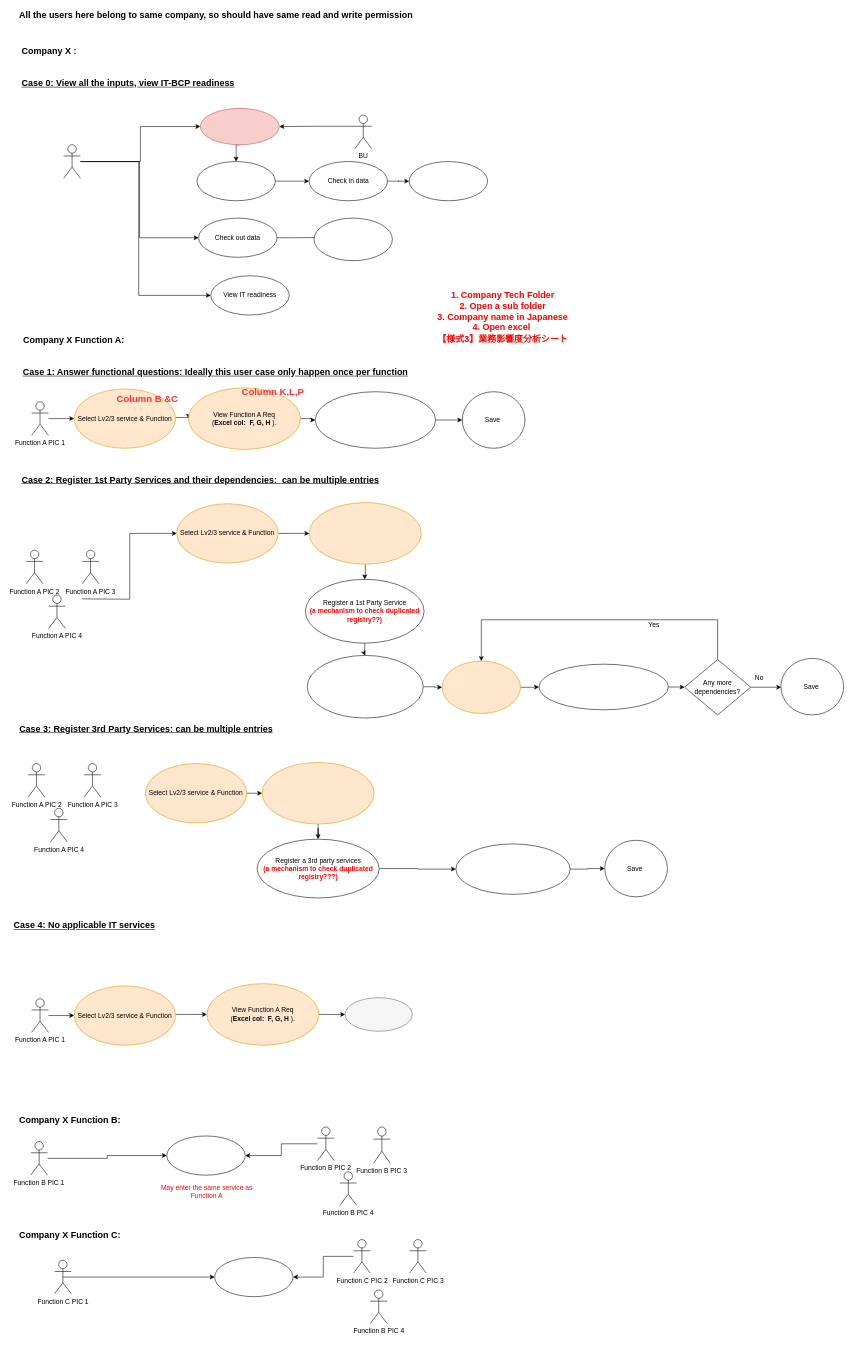
This 853x1345 diagram has some shape labels left out. The shapes that lost their labels are listed below. From the top down, each one's centre as x and y in pixels, then its label:
At pixel 239 126: "View results for all functions".
At pixel 71 161: "Company X Contact point".
At pixel 235 181: "Confirm all functions as input".
At pixel 448 181: "Submit".
At pixel 352 239: "edit data".
At pixel 375 419: "Answer Function qns (excel col: J,L)".
At pixel 365 533: "View Function A Req ( Excel column F, G, H ).".
At pixel 365 686: "Answer 1st party serv. qns (Excel col. K, M, R and all qns to the right of R)".
At pixel 481 687: "Select a dependency".
At pixel 603 687: "answer qns for shared service Excel Col. Pls refer to a sperate chart".
At pixel 318 793: "View Function A Req (Excel column F, G, H ).".
At pixel 512 868: "Answer 3rd party service qns (Excel col. K, M, R and all qns to the right of R)".
At pixel 378 1014: "No applicable IT services".
At pixel 205 1155: "Same user case for Function B".
At pixel 253 1277: "Same for Function C".
